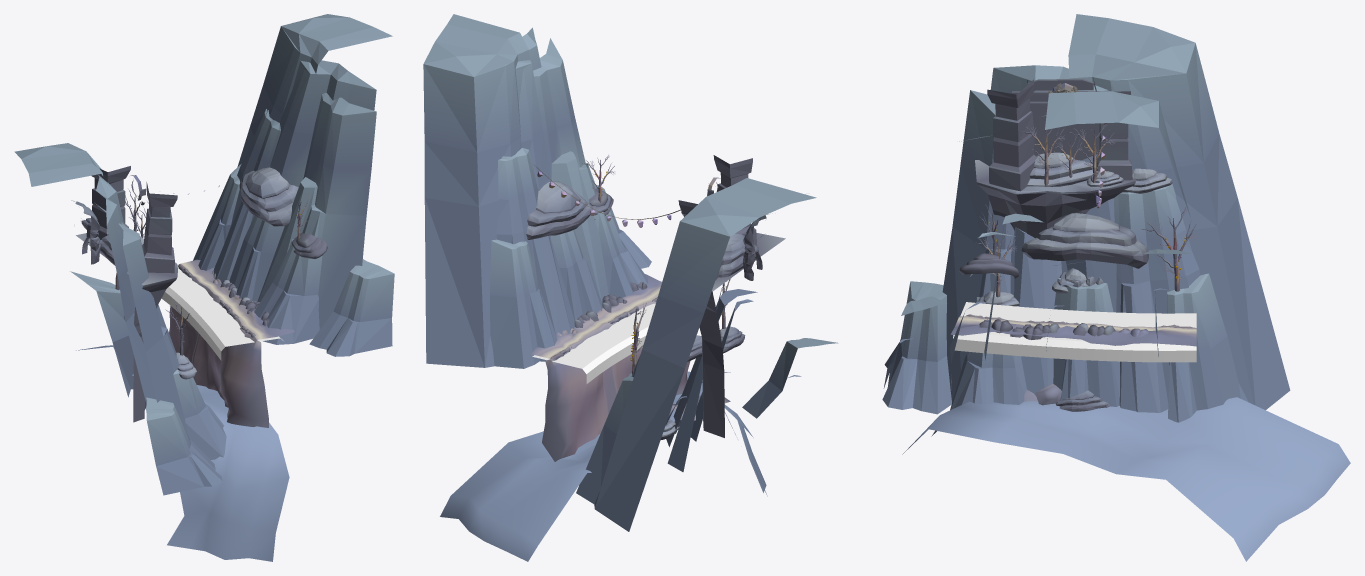
File: Arctic_Narrows_Left_Curve_Right_10_A.glb
3 renders of one model, left to right at view 1: azimuth 30°, elevation 25°; view 2: azimuth 150°, elevation 25°; view 3: azimuth 270°, elevation 25°, orthographic. The views are drawn at different scales.
Parts seen in each view (by area): view 1: Arctic_Narrows_Left_IceWall_A02, Arctic_Narrows_Left_Curve_Right_10_A, Arctic_Narrows_Right_IceWall_A01, Arctic_Narrows_Left_IceWall_A02_Mid, Arctic_Narrows_Right_IceWall_A01_Left, Arctic_Narrows_Left_IceWall_A02_Right, Arctic_Narrows_Left_IceWall_A02_Left, inv_fill, Arctic_Narrows_Arc_LPillar, Arctic_Narrows_Right_IceWall_A01_Right, Arctic_Narrows_Arc_Base, Arctic_Narrows_Arc_RPillar (+3 smaller); view 2: Arctic_Narrows_Left_IceWall_A02, Arctic_Narrows_Right_IceWall_A01, Arctic_Narrows_Left_Curve_Right_10_A, Arctic_Narrows_Left_IceWall_A02_Left, Arctic_Narrows_Left_IceWall_A02_Mid, Arctic_Narrows_Arc_Base, inv_fill, Arctic_Narrows_Right_IceWall_A01_Right, Arctic_Narrows_Right_IceWall_A01_Left, Arctic_Narrows_Right_Snow_A01_Top, Arctic_Narrows_Arc_LPillar, Arctic_Narrows_Right_Snow_A01 (10) (+2 smaller); view 3: Arctic_Narrows_Right_IceWall_A01, Arctic_Narrows_Left_Curve_Right_10_A, Arctic_Narrows_Right_IceWall_A01_Mid, Arctic_Narrows_Right_IceWall_A01_Left, inv_fill, Arctic_Narrows_Right_IceWall_A01_Right, Arctic_Narrows_Left_IceWall_A02, Arctic_Narrows_Arc_Base, Arctic_Narrows_Arc_LPillar, Arctic_Narrows_Arc_Backwall, Arctic_Narrows_Right_Snow_A01 (10), Arctic_Narrows_Right_Snow_A01_Mid (×2) (+4 smaller).
Boxes of the visible parts, bbox=[...] form: Arctic_Narrows_Left_IceWall_A02: bbox=[237, 14, 392, 329]; Arctic_Narrows_Left_Curve_Right_10_A: bbox=[76, 259, 294, 561]; Arctic_Narrows_Right_IceWall_A01: bbox=[14, 143, 187, 434]; Arctic_Narrows_Left_IceWall_A02_Mid: bbox=[229, 216, 322, 344]; Arctic_Narrows_Right_IceWall_A01_Left: bbox=[146, 370, 226, 495]; Arctic_Narrows_Left_IceWall_A02_Right: bbox=[309, 259, 394, 356]; Arctic_Narrows_Left_IceWall_A02_Left: bbox=[193, 109, 280, 282]; inv_fill: bbox=[161, 266, 283, 360]; Arctic_Narrows_Arc_LPillar: bbox=[142, 182, 177, 273]; Arctic_Narrows_Right_IceWall_A01_Right: bbox=[70, 271, 133, 397]; Arctic_Narrows_Arc_Base: bbox=[76, 233, 177, 422]; Arctic_Narrows_Arc_RPillar: bbox=[86, 166, 130, 239]; Arctic_Narrows_Left_IceWall_A02: bbox=[423, 14, 608, 367]; Arctic_Narrows_Right_IceWall_A01: bbox=[594, 178, 816, 531]; Arctic_Narrows_Left_Curve_Right_10_A: bbox=[440, 274, 767, 561]; Arctic_Narrows_Left_IceWall_A02_Left: bbox=[490, 148, 574, 368]; Arctic_Narrows_Left_IceWall_A02_Mid: bbox=[551, 208, 648, 319]; Arctic_Narrows_Arc_Base: bbox=[699, 232, 785, 437]; inv_fill: bbox=[532, 303, 655, 383]; Arctic_Narrows_Right_IceWall_A01_Right: bbox=[576, 373, 633, 504]; Arctic_Narrows_Right_IceWall_A01_Left: bbox=[675, 338, 838, 433]; Arctic_Narrows_Right_Snow_A01_Top: bbox=[536, 182, 580, 213]; Arctic_Narrows_Arc_LPillar: bbox=[713, 155, 757, 245]; Arctic_Narrows_Right_Snow_A01 (10): bbox=[526, 199, 593, 239]; Arctic_Narrows_Right_IceWall_A01: bbox=[942, 14, 1290, 410]; Arctic_Narrows_Left_Curve_Right_10_A: bbox=[902, 316, 1350, 561]; Arctic_Narrows_Right_IceWall_A01_Mid: bbox=[1053, 184, 1200, 412]; Arctic_Narrows_Right_IceWall_A01_Left: bbox=[882, 281, 1026, 414]; inv_fill: bbox=[953, 302, 1196, 362]; Arctic_Narrows_Right_IceWall_A01_Right: bbox=[1167, 273, 1240, 422]; Arctic_Narrows_Left_IceWall_A02: bbox=[959, 91, 1190, 360]; Arctic_Narrows_Arc_Base: bbox=[975, 160, 1135, 238]; Arctic_Narrows_Arc_LPillar: bbox=[987, 79, 1035, 191]; Arctic_Narrows_Arc_Backwall: bbox=[1012, 79, 1109, 160]; Arctic_Narrows_Right_Snow_A01 (10): bbox=[1021, 238, 1148, 268]; Arctic_Narrows_Right_Snow_A01_Mid (×2): bbox=[1029, 159, 1136, 246].
Bounding box in the file's own units: 22.34 × 26.14 × 21.91.
